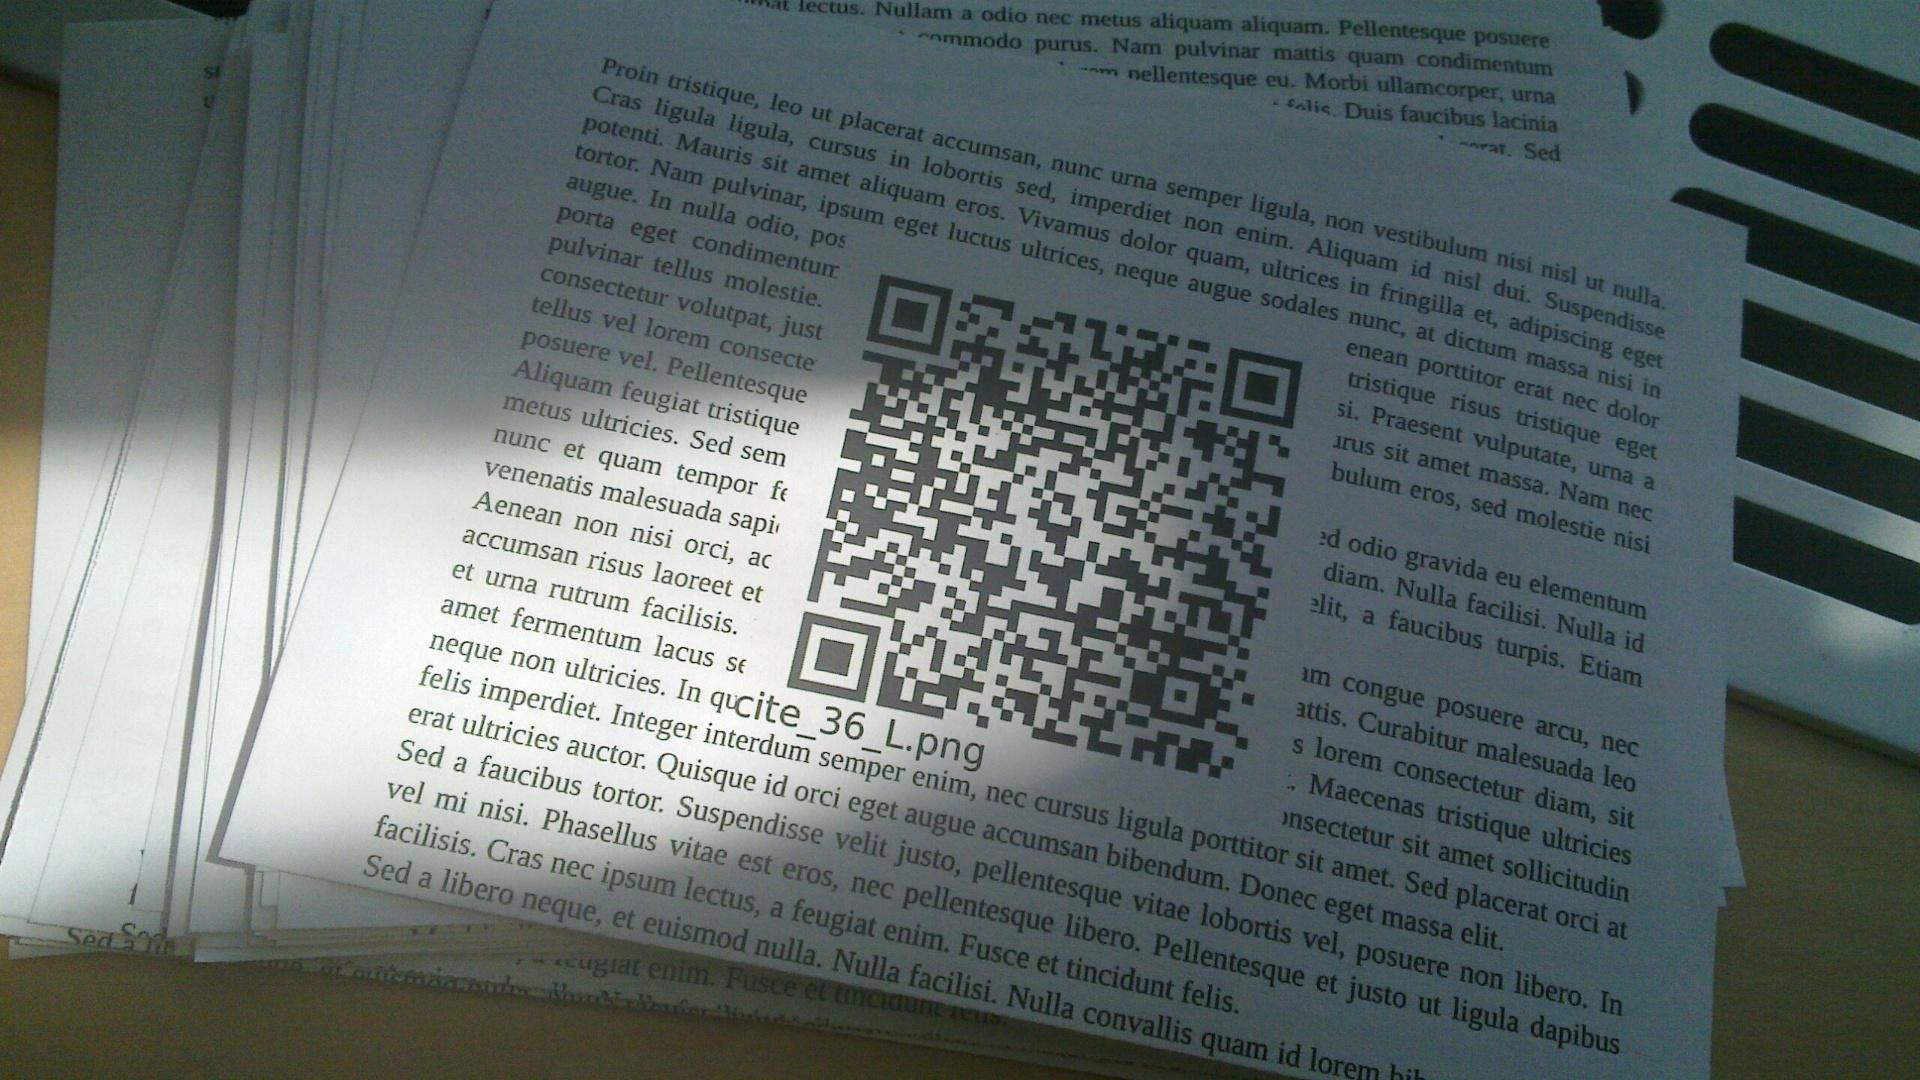Finder pattern: (787, 611, 878, 704), (864, 270, 955, 357), (1221, 345, 1304, 430)
